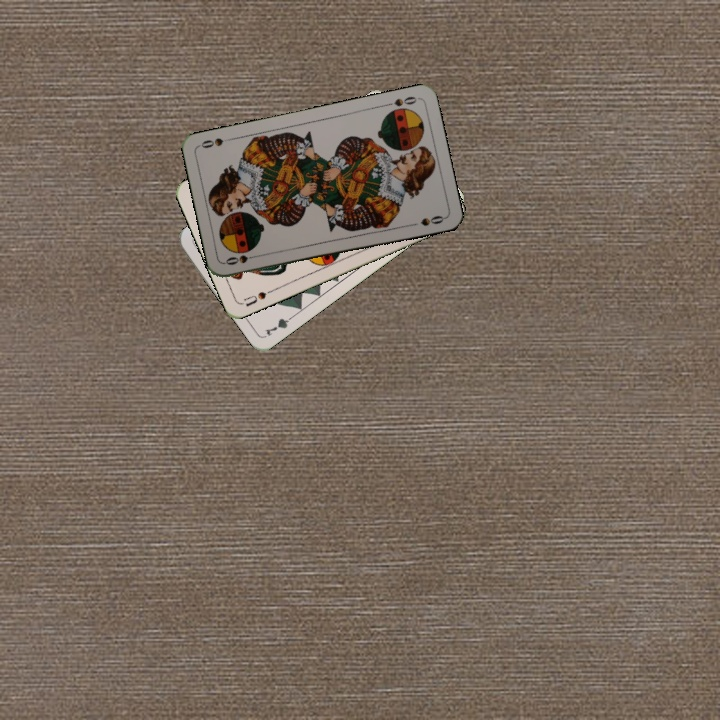G7: (260, 310, 298, 339)
SO: (222, 250, 262, 268), (380, 92, 421, 109)
SU: (238, 285, 277, 309)
